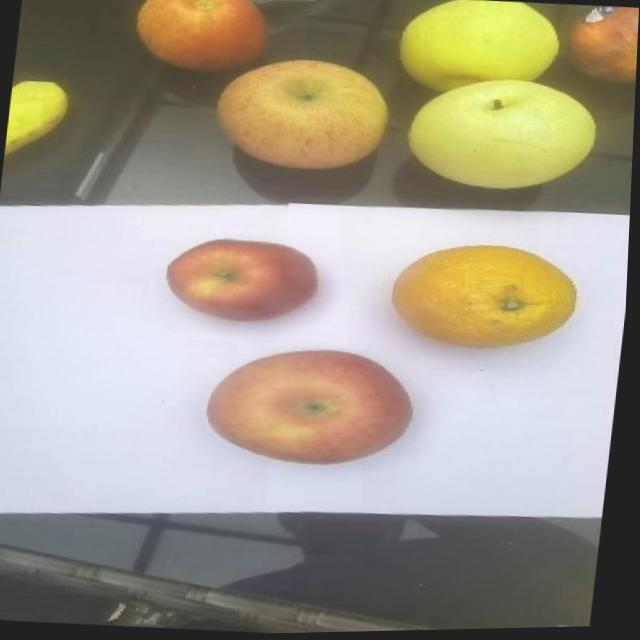Apple: (205, 340, 424, 474), (211, 52, 395, 178), (164, 233, 327, 328), (130, 0, 273, 78), (563, 6, 639, 88)
Banana: (6, 77, 72, 160)
Orange: (389, 238, 586, 358)
